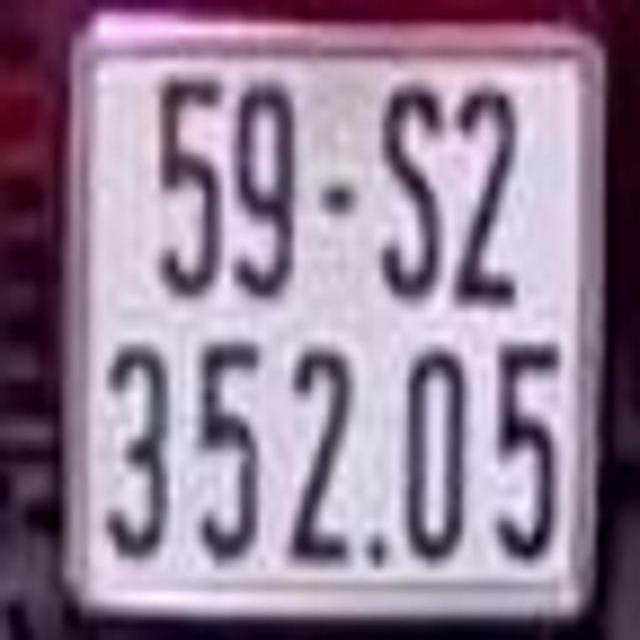0: (407, 326, 472, 564)
2: (284, 328, 352, 565), (452, 86, 522, 308)
3: (104, 338, 180, 570)
5: (189, 332, 272, 570), (490, 336, 564, 559), (161, 70, 222, 300)
9: (229, 70, 301, 308)
S: (367, 73, 445, 313)
